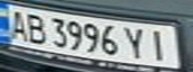3: (45, 16, 69, 48)
6: (100, 23, 124, 57)
9: (81, 20, 103, 54), (63, 18, 84, 52)
A: (3, 7, 30, 42)
B: (21, 11, 48, 45)
I: (145, 27, 175, 61)
Y: (121, 24, 151, 61)
